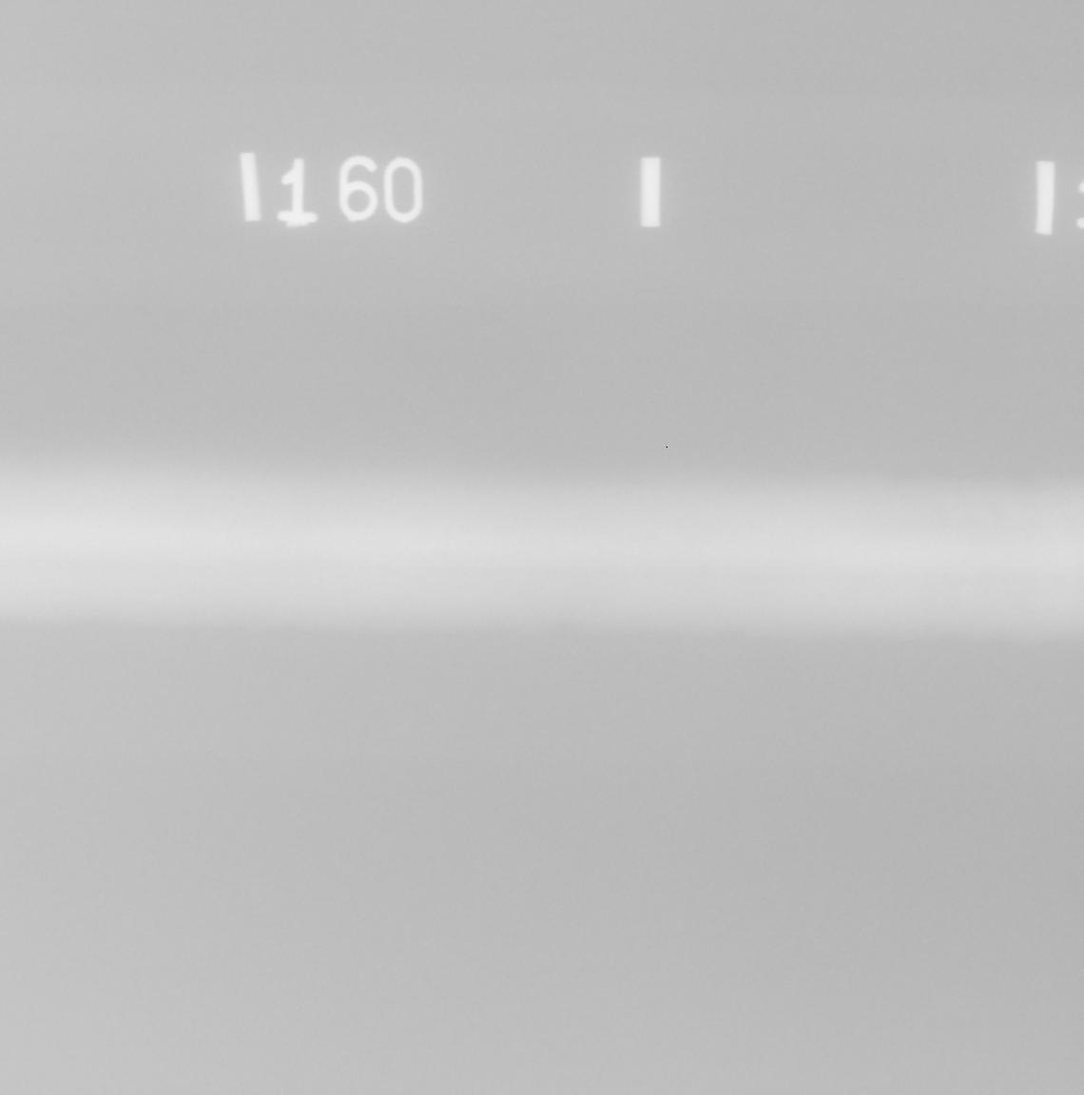Pore/Porosity: (439, 550, 451, 559)
